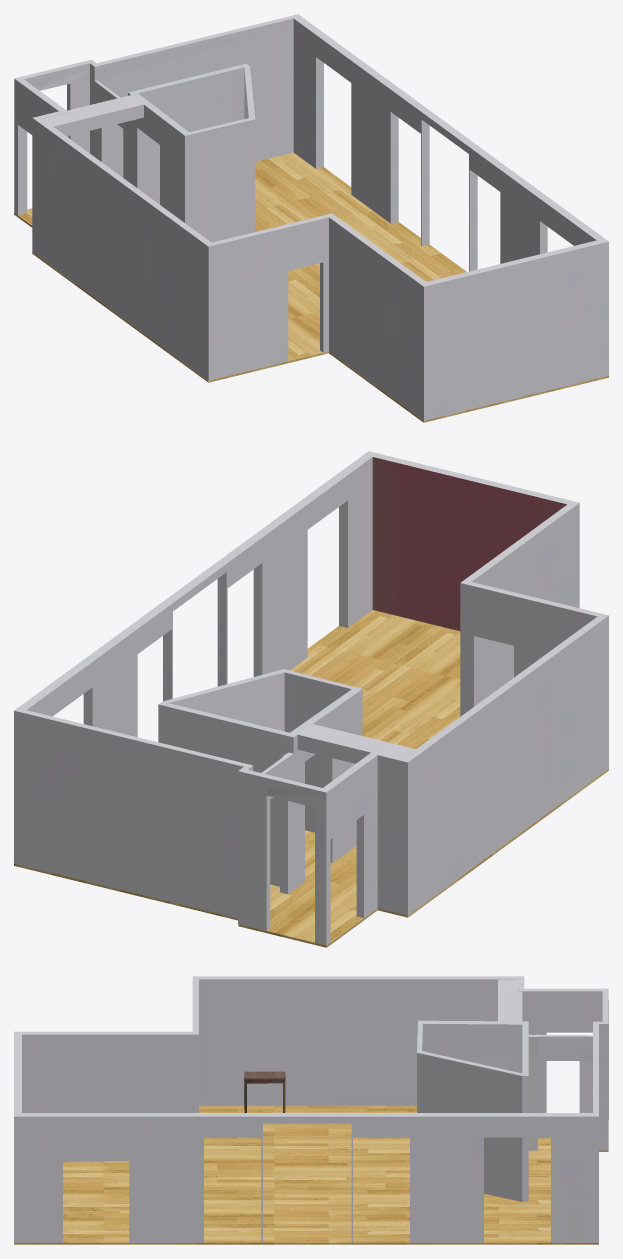
Rendered from bridge_table_1_v1.fbx.
The picture shows the model from 3 angles, top to bottom: view 1: azimuth 30°, elevation 25°; view 2: azimuth 150°, elevation 25°; view 3: azimuth 270°, elevation 25°; orthographic projection. The views are drawn at different scales.
Visible parts, largest first — view 1: frl_apartment_wall, frl_apartment_floor; view 2: frl_apartment_wall, frl_apartment_floor; view 3: frl_apartment_wall, frl_apartment_floor, frl_apartment_table_01.
Boxes of the visible parts, x1,y1,x2,y2 form: frl_apartment_wall: [14, 14, 608, 420]; frl_apartment_floor: [14, 152, 608, 422]; frl_apartment_wall: [14, 451, 608, 945]; frl_apartment_floor: [14, 610, 608, 947]; frl_apartment_wall: [14, 976, 608, 1242]; frl_apartment_floor: [14, 1105, 608, 1244]; frl_apartment_table_01: [244, 1071, 285, 1112].
Size of the model in its own units: 7.26 by 3.09 by 13.
3 materials, 3 textured.
